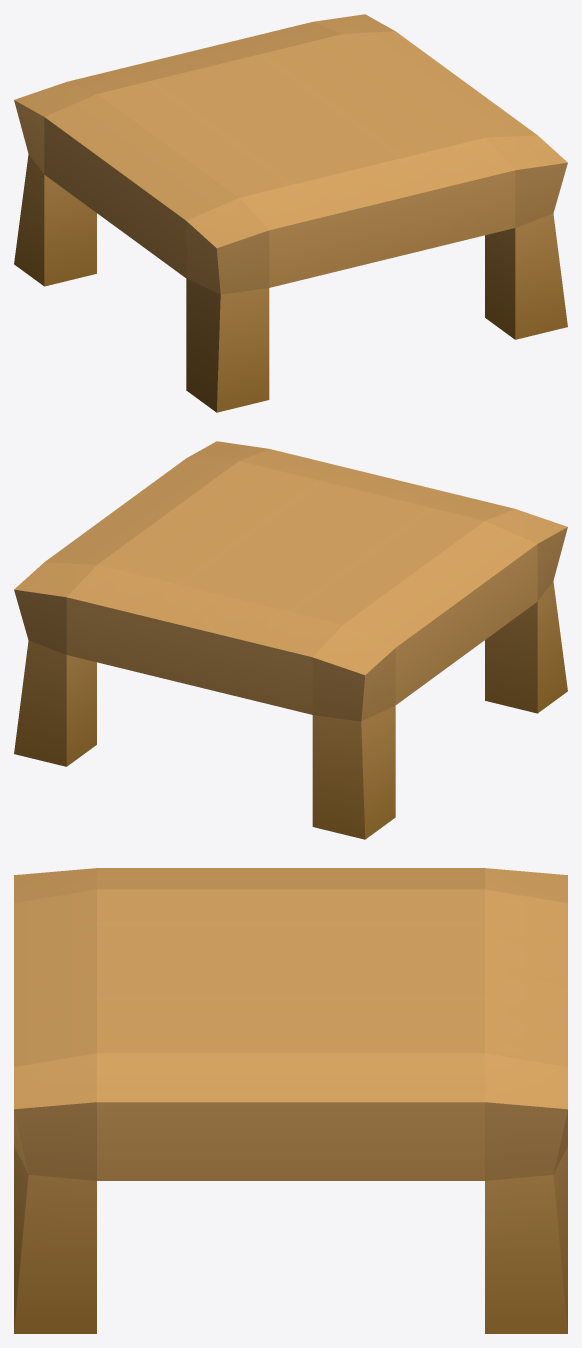
Rendered from PlantPot_48.fbx.
The picture shows the model from 3 angles, top to bottom: view 1: azimuth 30°, elevation 25°; view 2: azimuth 150°, elevation 25°; view 3: azimuth 270°, elevation 25°; orthographic projection. The views are drawn at different scales.
Parts seen in each view (by area): view 1: PlantPot_48; view 2: PlantPot_48; view 3: PlantPot_48.
Boxes of the visible parts, x1,y1,x2,y2 form: PlantPot_48: (14,14,567,412); PlantPot_48: (14,441,567,839); PlantPot_48: (14,868,567,1333).
Size of the model in its own units: 22.29 by 10.9 by 22.29.
